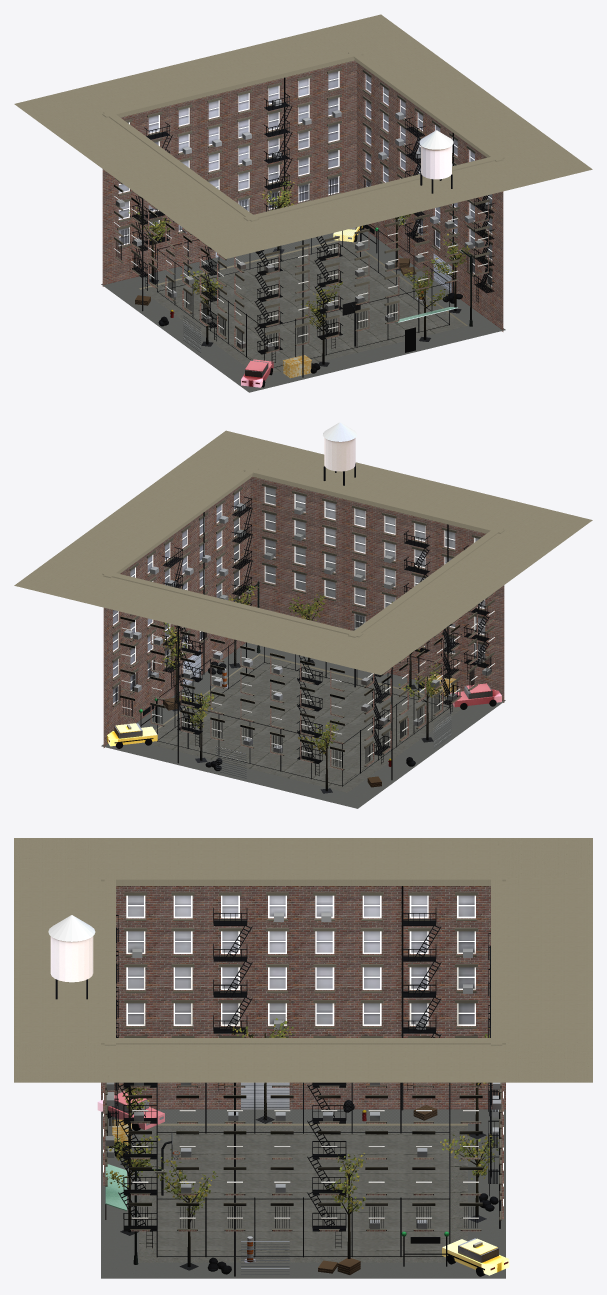
The model's file is court.glb.
The picture shows the model from 3 angles, top to bottom: view 1: azimuth 30°, elevation 25°; view 2: azimuth 150°, elevation 25°; view 3: azimuth 270°, elevation 25°; orthographic projection. The views are drawn at different scales.
Visible parts, largest first — view 1: court_walls, court_ground, court_details, court_props, court_leaves; view 2: court_walls, court_ground, court_details, court_props, court_leaves; view 3: court_walls, court_ground, court_details, court_props, court_leaves.
Part boxes in pixels (box(x1,y1,x2,y2)): court_walls: box(14, 14, 592, 353); court_ground: box(101, 229, 505, 392); court_details: box(114, 68, 494, 387); court_props: box(241, 130, 457, 387); court_leaves: box(128, 174, 470, 328); court_walls: box(14, 430, 592, 778); court_ground: box(101, 642, 505, 808); court_details: box(108, 463, 496, 793); court_props: box(107, 422, 501, 746); court_leaves: box(161, 582, 441, 754); court_walls: box(14, 838, 592, 1274); court_ground: box(101, 1109, 505, 1278); court_details: box(55, 886, 508, 1276); court_props: box(48, 915, 509, 1275); court_leaves: box(106, 1017, 498, 1214).
Bounding box in the file's own units: 38 × 22.6 × 38.
51 materials, 16 textured.
